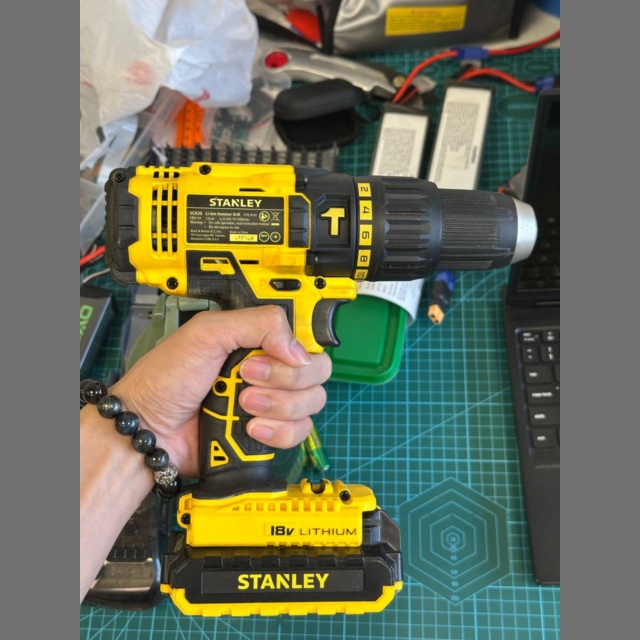drill: (102, 163, 538, 614)
